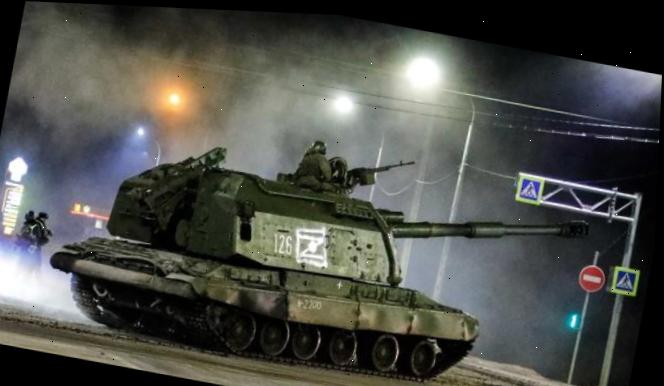person: (15, 204, 56, 289)
sau: (43, 70, 610, 386)
